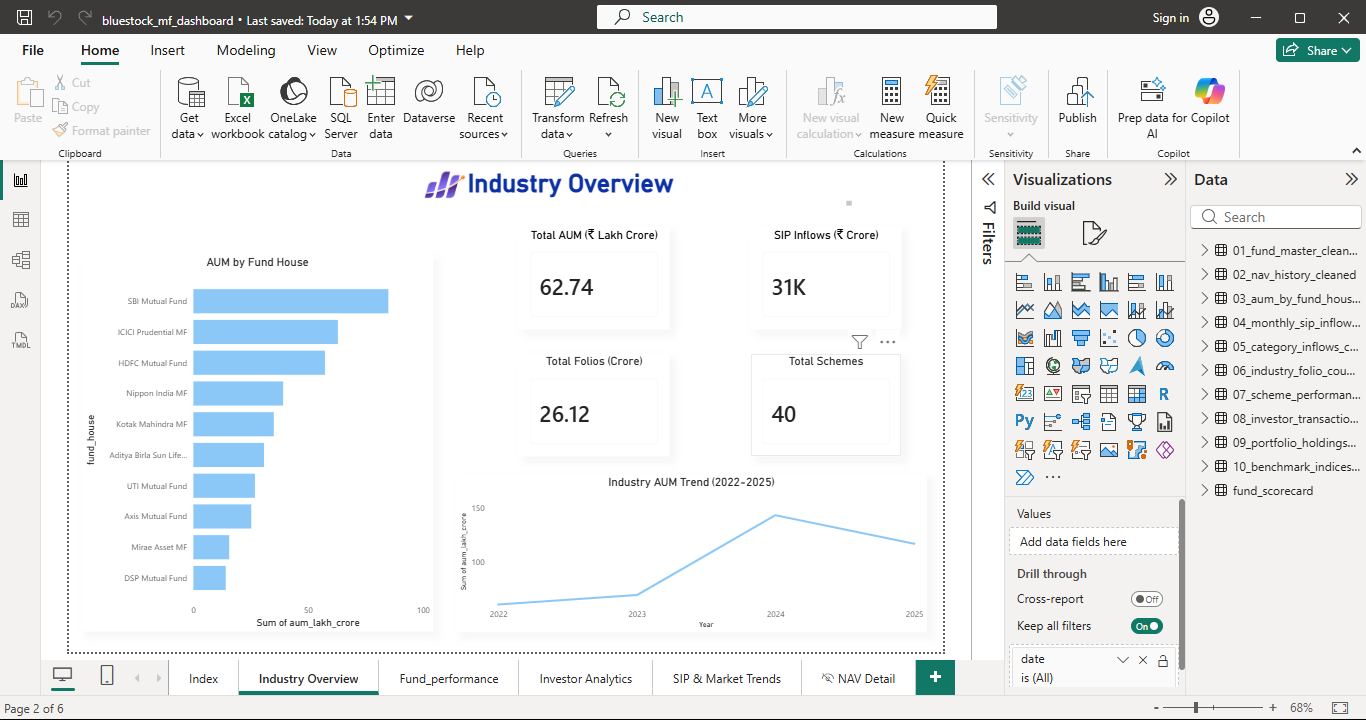

The page's visual inventory and layout, read from the dashboard file:
{"tool":"powerbi","page":{"name":"Industry Overview","canvas":[1280,720],"ordinal":1},"visuals":[{"type":"cardVisual","title":"SIP Inflows (₹ Crore)","fields":{"Data":["04_monthly_sip_inflows_cleaned.Total SIP Inflows"]},"box":[997.8,97.4,220.1,149.5],"z":0},{"type":"cardVisual","title":"Total AUM (₹ Lakh Crore)","fields":{"Data":["03_aum_by_fund_house_cleaned.Total AUM"]},"box":[658.5,97.4,220.1,149.5],"z":1000},{"type":"cardVisual","title":"Total Schemes","fields":{"Data":["01_fund_master_cleaned.Total Schemes"]},"box":[997.8,283.9,220.1,149.5],"z":2000},{"type":"cardVisual","title":"Total Folios (Crore)","fields":{"Data":["06_industry_folio_count_cleaned.Total Folios"]},"box":[658.5,283.9,220.1,149.5],"z":3000},{"type":"lineChart","title":"Industry AUM Trend (2022-2025)","fields":{"Category":["03_aum_by_fund_house_cleaned.date.Variation.Date Hierarchy.Year","03_aum_by_fund_house_cleaned.date.Variation.Date Hierarchy.Quarter","03_aum_by_fund_house_cleaned.date.Variation.Date Hierarchy.Month","03_aum_by_fund_house_cleaned.date.Variation.Date Hierarchy.Day"],"Y":["Sum(03_aum_by_fund_house_cleaned.aum_lakh_crore)"]},"box":[566.1,460.3,688.7,230.1],"z":4000},{"type":"barChart","title":"AUM by Fund House","fields":{"Category":["03_aum_by_fund_house_cleaned.fund_house"],"Y":["Sum(03_aum_by_fund_house_cleaned.aum_lakh_crore)"]},"box":[18.5,139.4,514,551],"z":5000},{"type":"textbox","title":"Industry Overview","box":[317.5,11.8,833.2,60.5],"z":6000},{"type":"image","box":[411.2,0,275.1,71.7],"z":7000}]}

Visuals, with their boxes on the page's 1280x720 design canvas (x1, y1, x2, y2). These are canvas units, not pixel positions in the 1366x720 screenshot, which may show the page scaled, cropped or inside an application window:
"SIP Inflows (₹ Crore)" cardVisual: x1=998 y1=97 x2=1218 y2=247
"Total AUM (₹ Lakh Crore)" cardVisual: x1=658 y1=97 x2=879 y2=247
"Total Schemes" cardVisual: x1=998 y1=284 x2=1218 y2=433
"Total Folios (Crore)" cardVisual: x1=658 y1=284 x2=879 y2=433
"Industry AUM Trend (2022-2025)" lineChart: x1=566 y1=460 x2=1255 y2=690
"AUM by Fund House" barChart: x1=18 y1=139 x2=532 y2=690
"Industry Overview" textbox: x1=318 y1=12 x2=1151 y2=72
image: x1=411 y1=0 x2=686 y2=72
